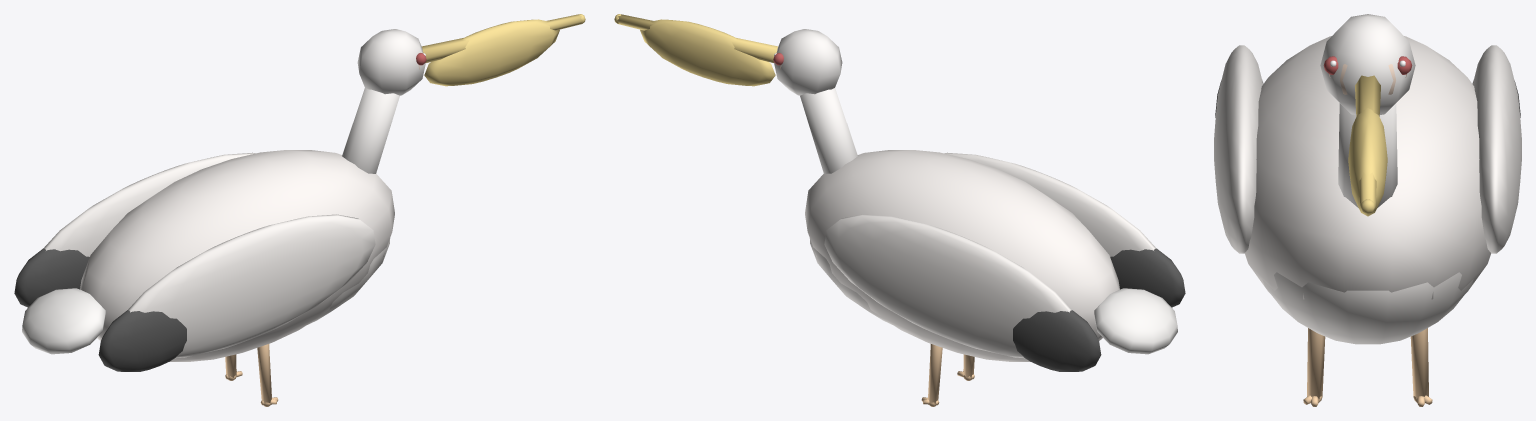
The model's file is great-white-pelican.glb.
The picture shows the model from 3 angles, left to right: view 1: azimuth 30°, elevation 25°; view 2: azimuth 150°, elevation 25°; view 3: azimuth 270°, elevation 25°; orthographic projection. The views are drawn at different scales.
Parts seen in each view (by area): view 1: e, e.002, e.013, e.004, e.011, e.007; view 2: e, e.004, e.013, e.002, e.011, e.009; view 3: e, e.013, e.002, e.004, e.011, e.007, e.009.
Boxes of the visible parts, x1,y1,x2,y2 form: e: [22, 150, 394, 361]; e.002: [98, 214, 375, 371]; e.013: [357, 14, 585, 95]; e.004: [14, 152, 255, 307]; e.011: [342, 88, 399, 173]; e.007: [257, 344, 278, 406]; e: [805, 150, 1177, 361]; e.004: [824, 214, 1101, 371]; e.013: [614, 14, 842, 95]; e.002: [944, 152, 1185, 307]; e.011: [800, 88, 857, 173]; e.009: [921, 344, 942, 406]; e: [1245, 36, 1490, 344]; e.013: [1320, 14, 1415, 216]; e.002: [1214, 45, 1263, 253]; e.004: [1472, 45, 1521, 253]; e.011: [1338, 103, 1397, 207]; e.007: [1303, 328, 1325, 406]; e.009: [1410, 328, 1432, 406].
Size of the model in its own units: 1.37 by 0.7701 by 0.4392.
